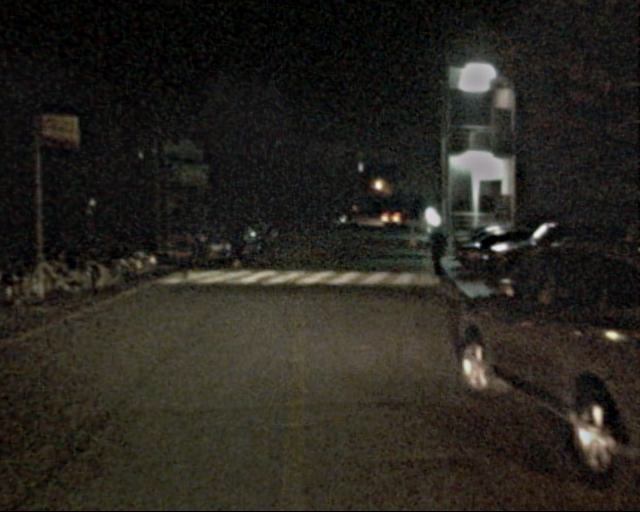person: (421, 222, 448, 287), (166, 220, 190, 279), (220, 217, 240, 266)
